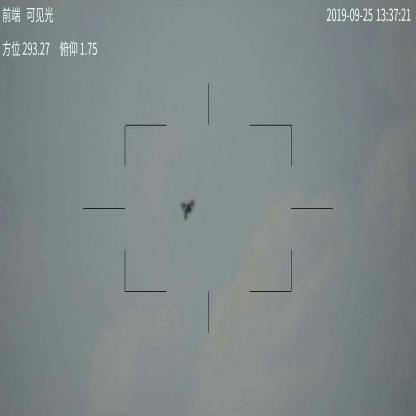uav: (179, 198, 197, 221)
